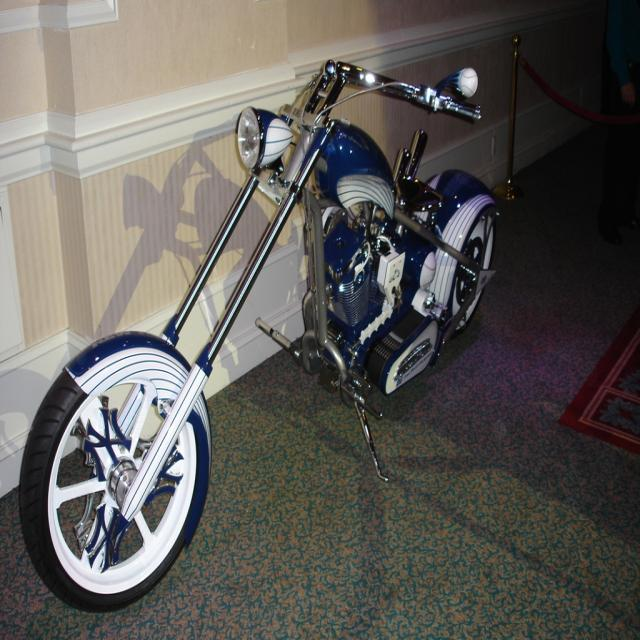Passenger Car: (15, 40, 514, 618)
